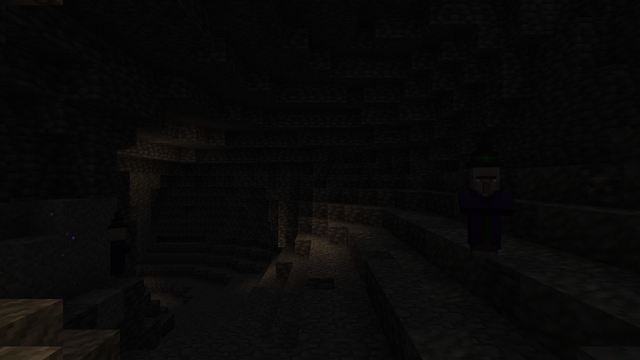sorcieres: (461, 163, 507, 259), (109, 223, 130, 280)
